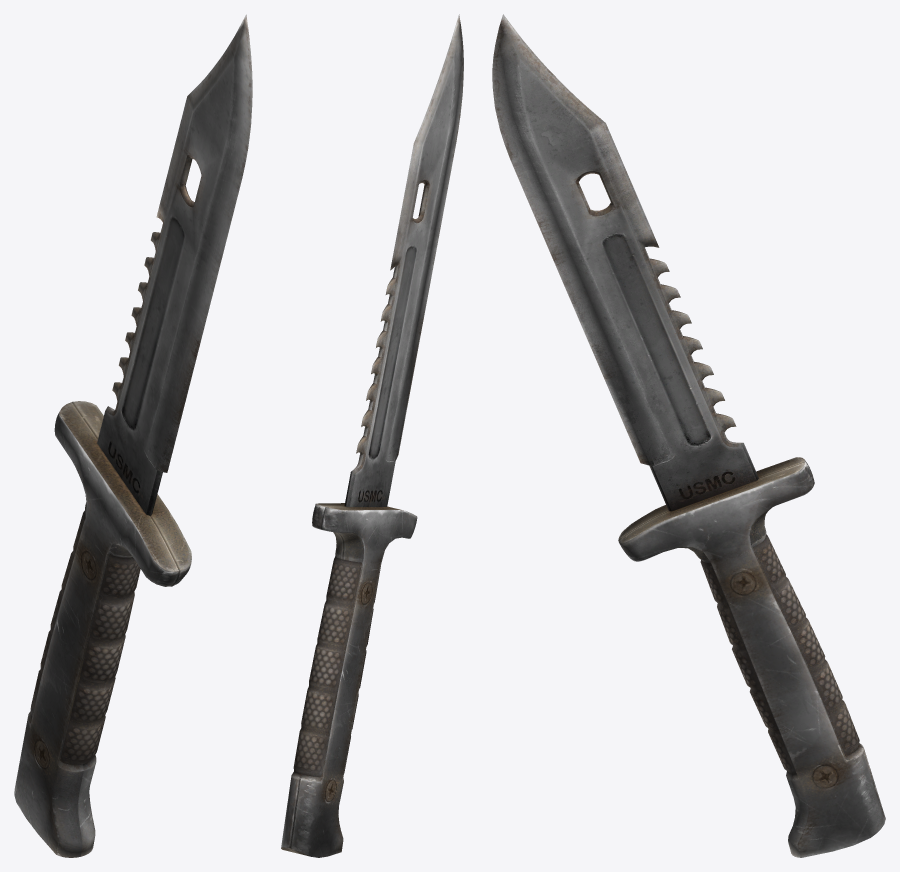
The model's file is Weapons_CombatKnife01_LOD0.glb.
3 renders of one model, left to right at view 1: azimuth 30°, elevation 25°; view 2: azimuth 150°, elevation 25°; view 3: azimuth 270°, elevation 25°, orthographic. The views are drawn at different scales.
Visible parts, largest first — view 1: Hoodie; view 2: Hoodie; view 3: Hoodie.
Part boxes in pixels (<box>): Hoodie: <box>14,14,252,857</box>; Hoodie: <box>281,14,463,857</box>; Hoodie: <box>492,14,885,857</box>.
Bounding box in the file's own units: 0.0187 × 0.4626 × 0.197.
1 material, 1 textured.
